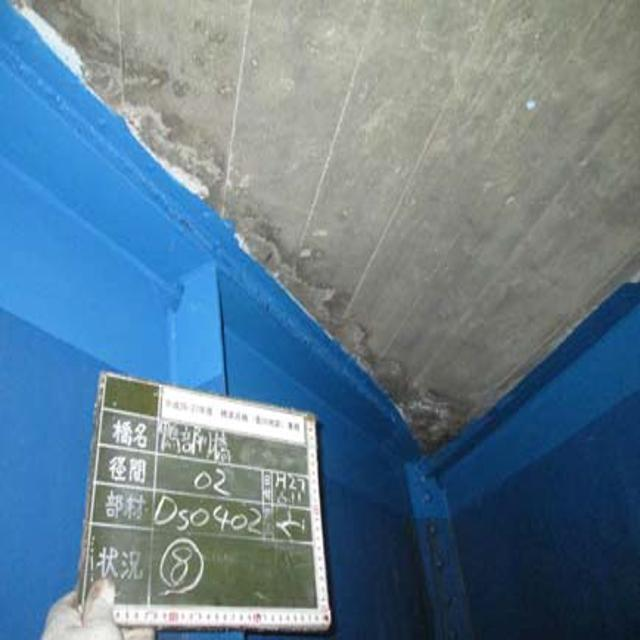freelime: (127, 113, 217, 200), (30, 17, 100, 93)
